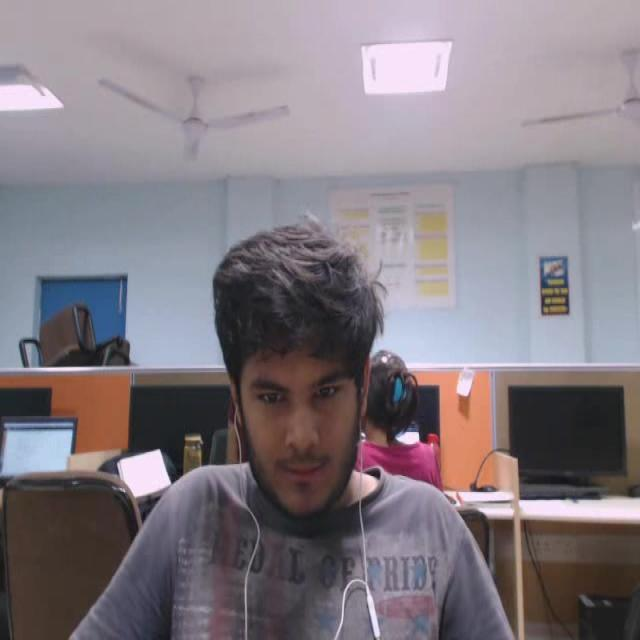Bored: (193, 236, 427, 574)
